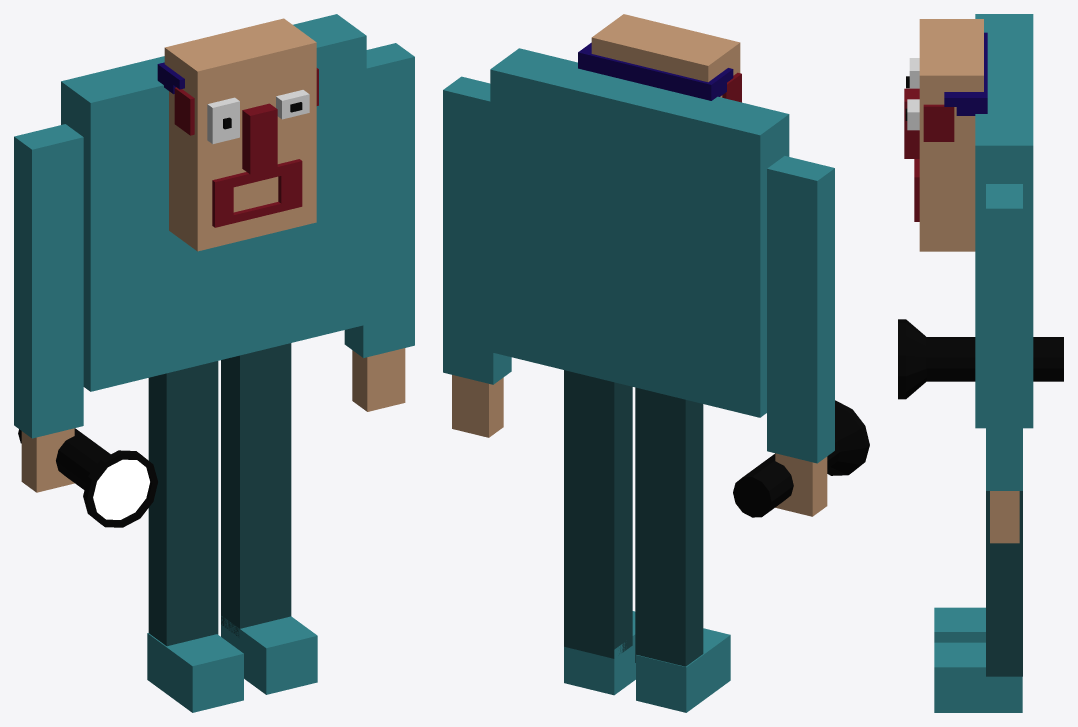
The model's file is Man.glb.
3 renders of one model, left to right at view 1: azimuth 30°, elevation 25°; view 2: azimuth 150°, elevation 25°; view 3: azimuth 270°, elevation 25°, orthographic. The views are drawn at different scales.
Visible parts, largest first — view 1: Cube, Cube.001, Cube.002, Cube.005, Cube.004, Cube.003, Cylinder, Cube.007, Cube.006, Cube.016, Cube.008, Cube.009 (+4 smaller); view 2: Cube, Cube.002, Cube.005, Cube.004, Cube.003, Cube.001, Cube.007, Cylinder, Cube.013, Cube.006, Cube.008, Cube.009; view 3: Cube, Cube.001, Cube.003, Cylinder, Cube.005, Cube.006, Cube.007, Cube.008, Cube.015, Cube.013, Cube.010, Cube.011 (+2 smaller).
Boxes of the visible parts, x1,y1,x2,y2 form: Cube: (61, 14, 366, 391); Cube.001: (164, 18, 316, 251); Cube.002: (14, 124, 83, 438); Cube.005: (221, 343, 291, 637); Cube.004: (148, 361, 218, 646); Cube.003: (344, 43, 414, 357); Cylinder: (18, 428, 157, 527); Cube.007: (147, 633, 243, 712); Cube.006: (221, 616, 317, 694); Cube.016: (212, 159, 302, 227); Cube.008: (352, 348, 405, 411); Cube.009: (21, 428, 74, 492); Cube: (490, 48, 789, 417); Cube.002: (767, 156, 834, 463); Cube.005: (564, 370, 632, 658); Cube.004: (635, 387, 703, 666); Cube.003: (443, 76, 511, 384); Cube.001: (591, 14, 740, 97); Cube.007: (636, 628, 730, 712); Cylinder: (733, 400, 869, 517); Cube.013: (578, 42, 733, 100); Cube.006: (564, 611, 635, 695); Cube.008: (452, 375, 503, 437); Cube.009: (775, 453, 827, 516); Cube: (975, 14, 1033, 428); Cube.001: (919, 19, 983, 251); Cube.003: (986, 184, 1022, 490); Cylinder: (898, 319, 1063, 399); Cube.005: (986, 491, 1022, 676); Cube.006: (934, 642, 1022, 712); Cube.007: (934, 607, 985, 642); Cube.008: (990, 491, 1019, 543); Cube.015: (923, 104, 954, 141); Cube.013: (944, 32, 987, 115); Cube.010: (904, 88, 919, 158); Cube.011: (907, 99, 919, 130).
Bounding box in the file's own units: 2.77 × 4.48 × 1.06.
